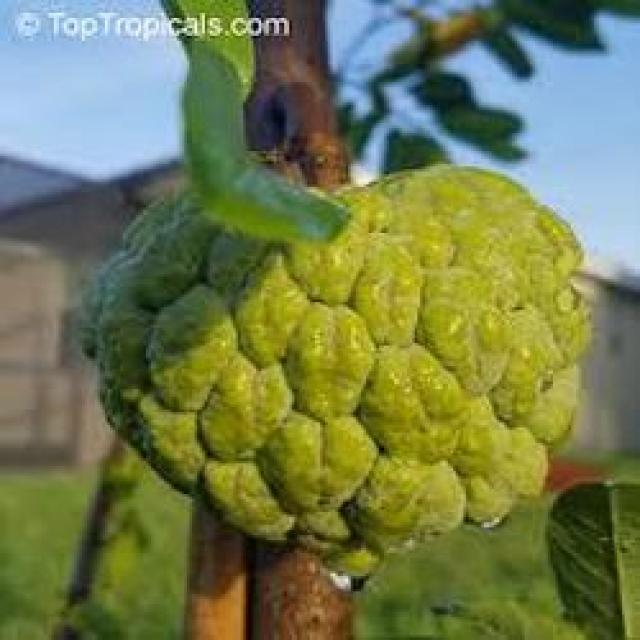custard_apple: (87, 156, 594, 566)
